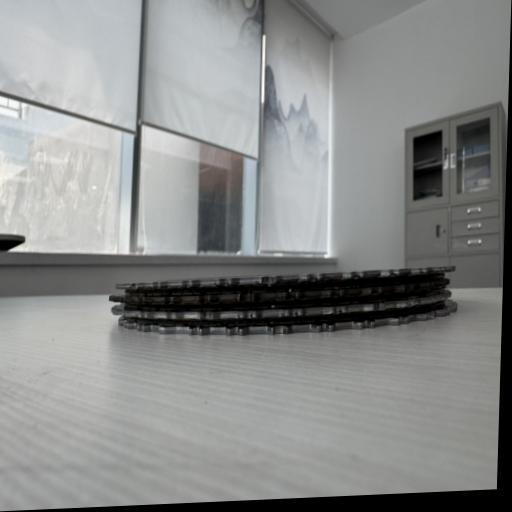black metal plate: (109, 277, 449, 304)
shiney metal plate: (118, 299, 458, 335), (111, 290, 451, 319), (115, 265, 455, 289)
spacer: (123, 300, 445, 326), (122, 285, 445, 310), (124, 272, 445, 296)
